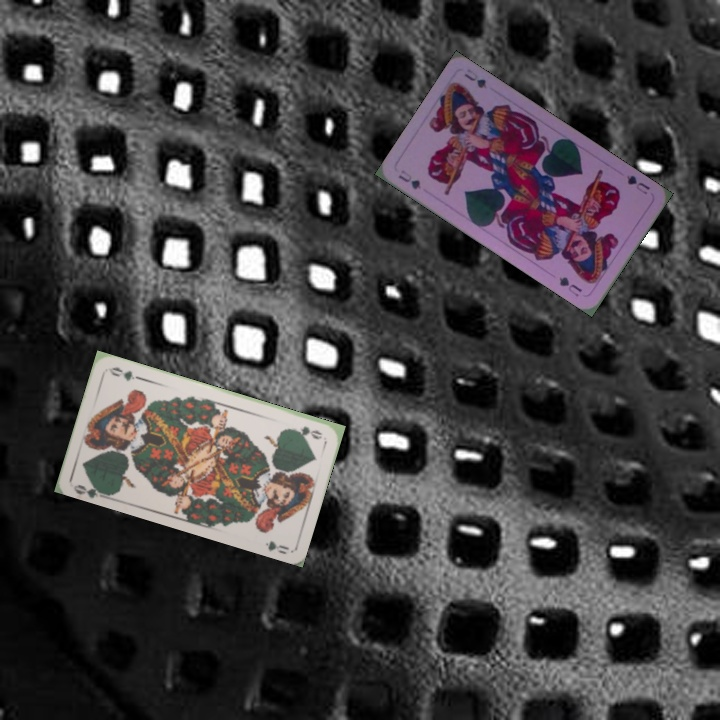GO: (70, 477, 111, 501), (286, 422, 324, 442)
GU: (622, 171, 652, 197), (394, 166, 424, 192)
